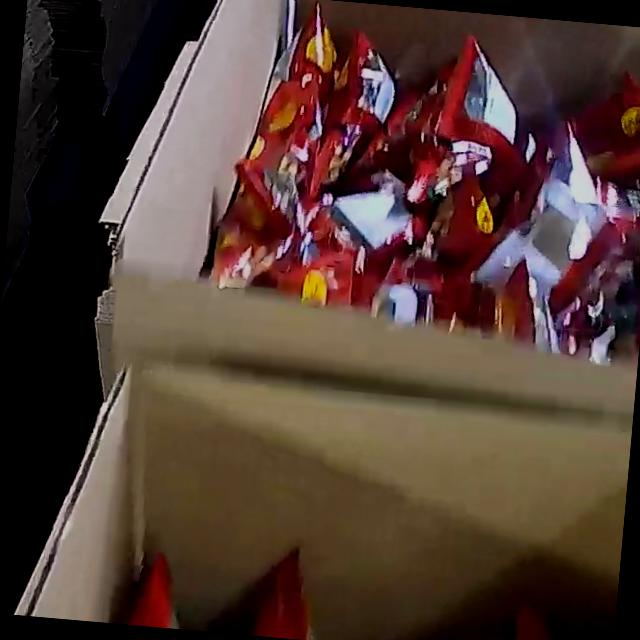masala: (203, 0, 640, 371), (74, 555, 616, 640)
